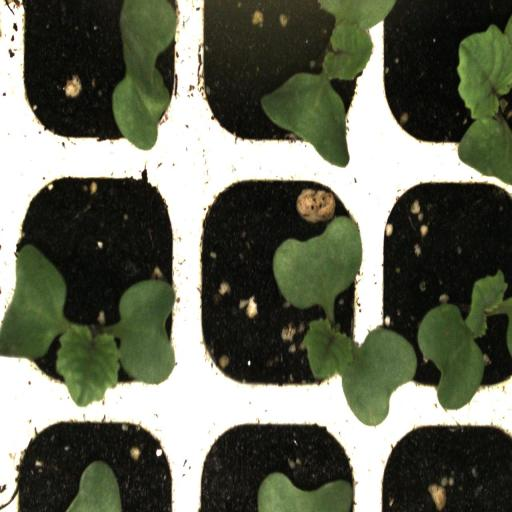Folha: (112, 0, 176, 151), (66, 460, 123, 512)
Germinacao: (190, 164, 377, 408), (7, 159, 188, 400), (377, 163, 512, 398), (192, 0, 373, 158), (376, 0, 512, 156)
